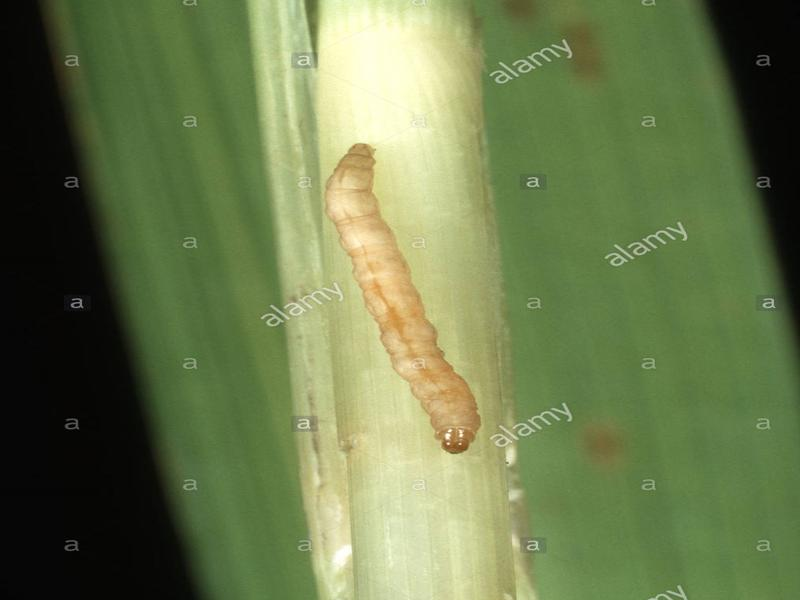Paddy_stemborer: (315, 122, 497, 463)
